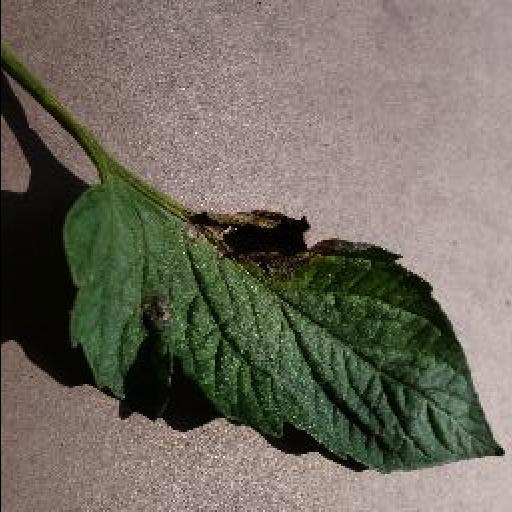disease_tomato: (64, 178, 504, 476)
